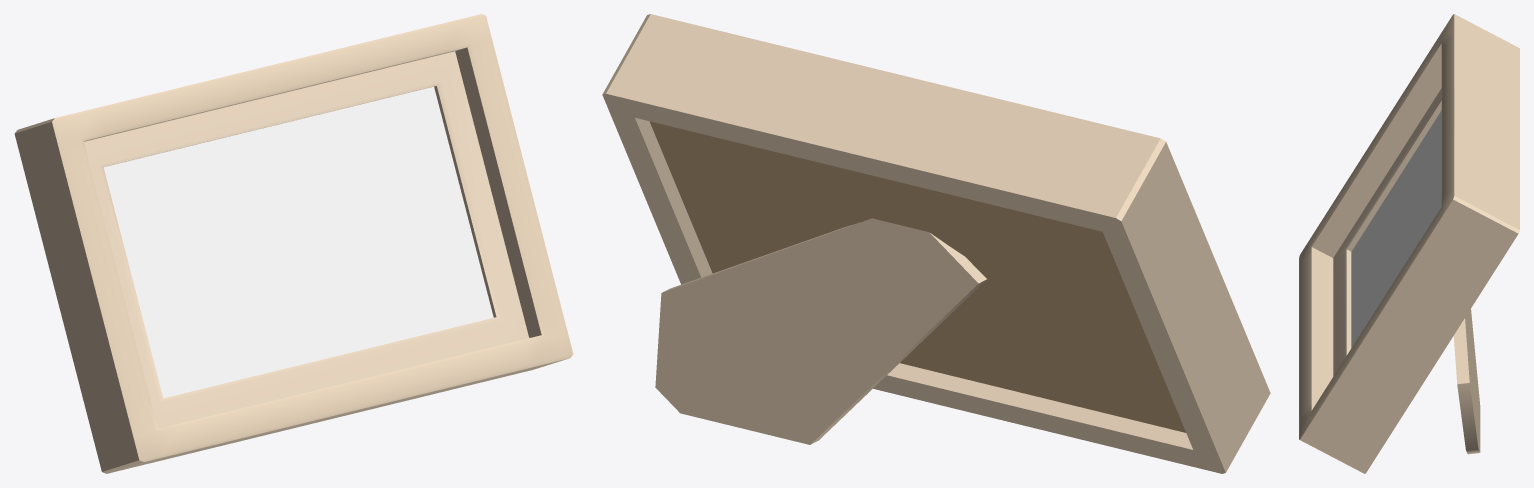
File: PhotoFrame.fbx
3 renders of one model, left to right at view 1: azimuth 30°, elevation 25°; view 2: azimuth 150°, elevation 25°; view 3: azimuth 270°, elevation 25°, orthographic. The views are drawn at different scales.
Visible parts, largest first — view 1: PhotoFrame, Photo; view 2: PhotoFrame, PhotoFrame_stand; view 3: PhotoFrame, Photo, PhotoFrame_stand.
Boxes of the visible parts, x1=… form: PhotoFrame: x1=14, y1=14, x2=573, y2=473; Photo: x1=103, y1=86, x2=493, y2=398; PhotoFrame: x1=602, y1=14, x2=1270, y2=473; PhotoFrame_stand: x1=655, y1=218, x2=986, y2=444; PhotoFrame: x1=1299, y1=14, x2=1519, y2=473; Photo: x1=1351, y1=110, x2=1441, y2=347; PhotoFrame_stand: x1=1453, y1=309, x2=1480, y2=454.
Bounding box in the file's own units: 17.2 × 12.05 × 8.67.
1 material, 1 textured.
